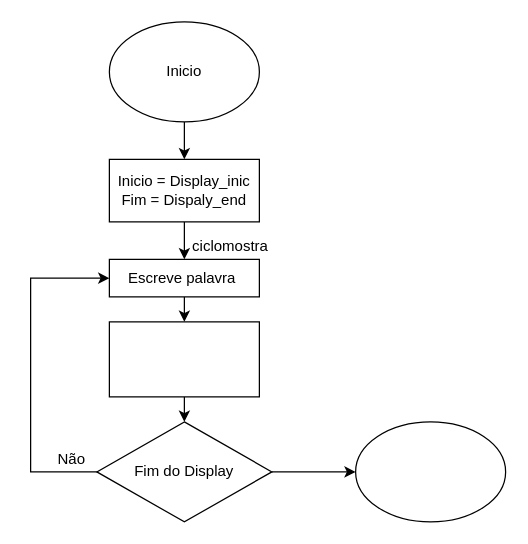
Image size: 528x544. Some labels were removed from this diagram. Here are the shapes that lost their labels. From the top down, the centre of each, then its label:
the point at 183,359: Passa para a próxima palavra
the point at 430,471: Fim
